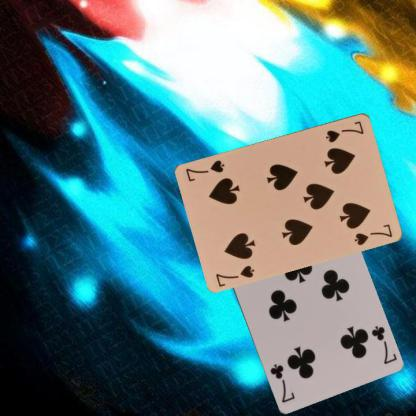7c: (368, 323, 398, 365)
7s: (213, 262, 256, 288), (323, 118, 365, 143)
